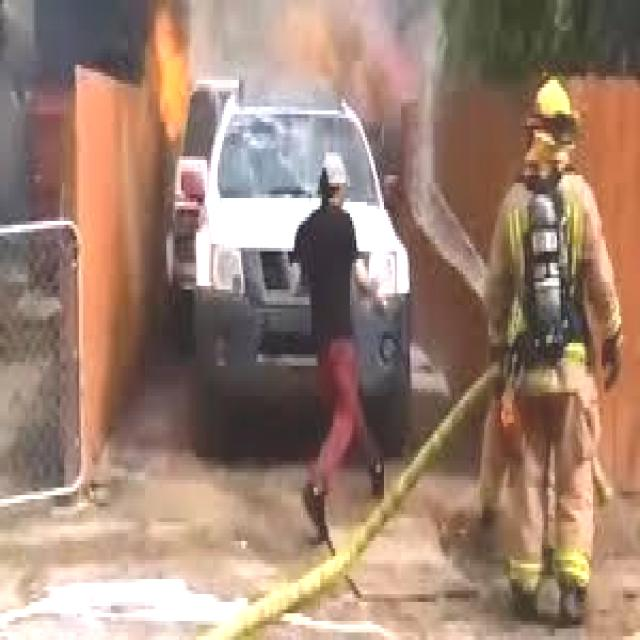fire: (137, 15, 200, 145)
